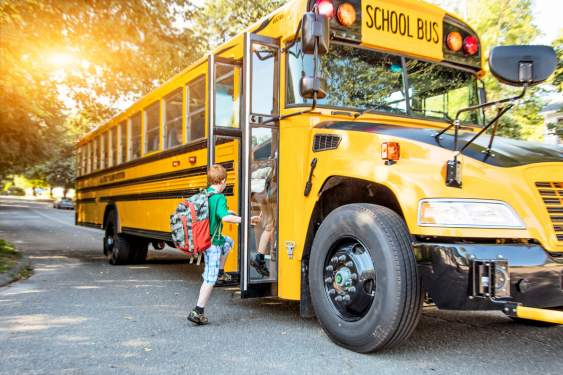Bus: (61, 6, 561, 321)
Person: (174, 160, 238, 328)
